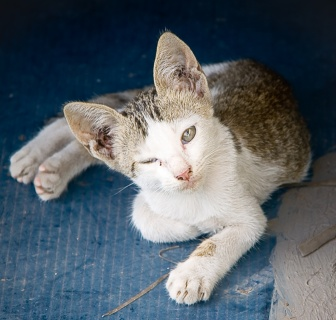Cat: (6, 31, 314, 304)
